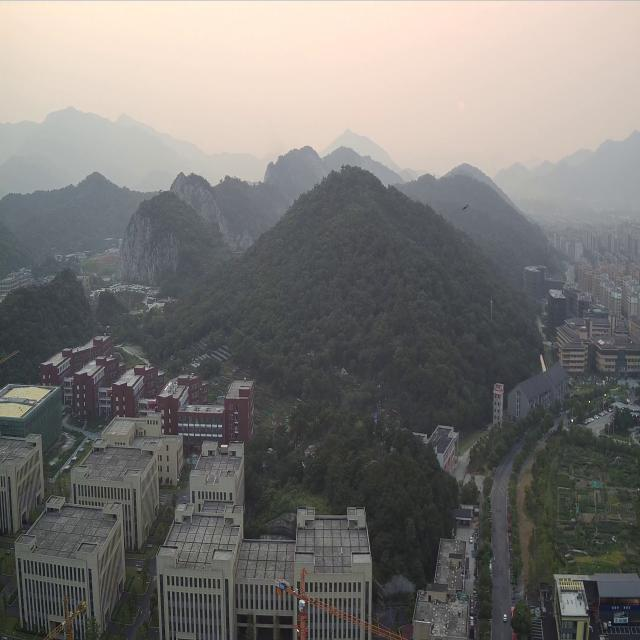drone: (462, 204, 468, 210)
